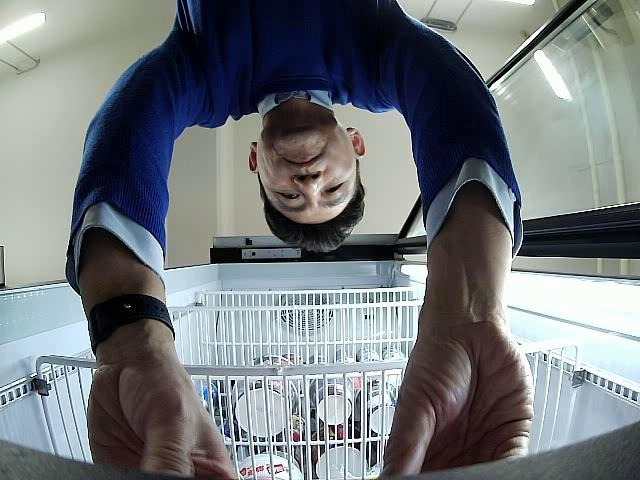00_hand: (381, 284, 534, 478), (86, 355, 239, 479)
